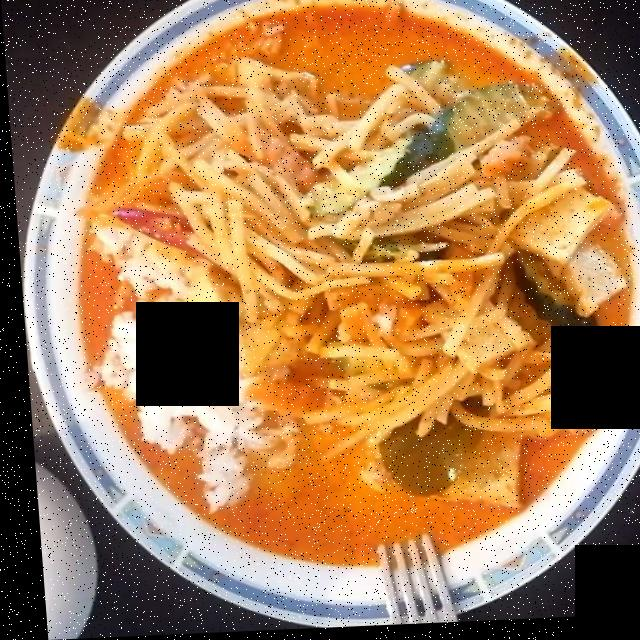chicken-curry-cream-coconut-milk-curry-spices-paste: (97, 18, 582, 568)
rice: (89, 220, 292, 524)
tofu: (164, 190, 617, 518)
vegetables: (149, 73, 568, 425)
